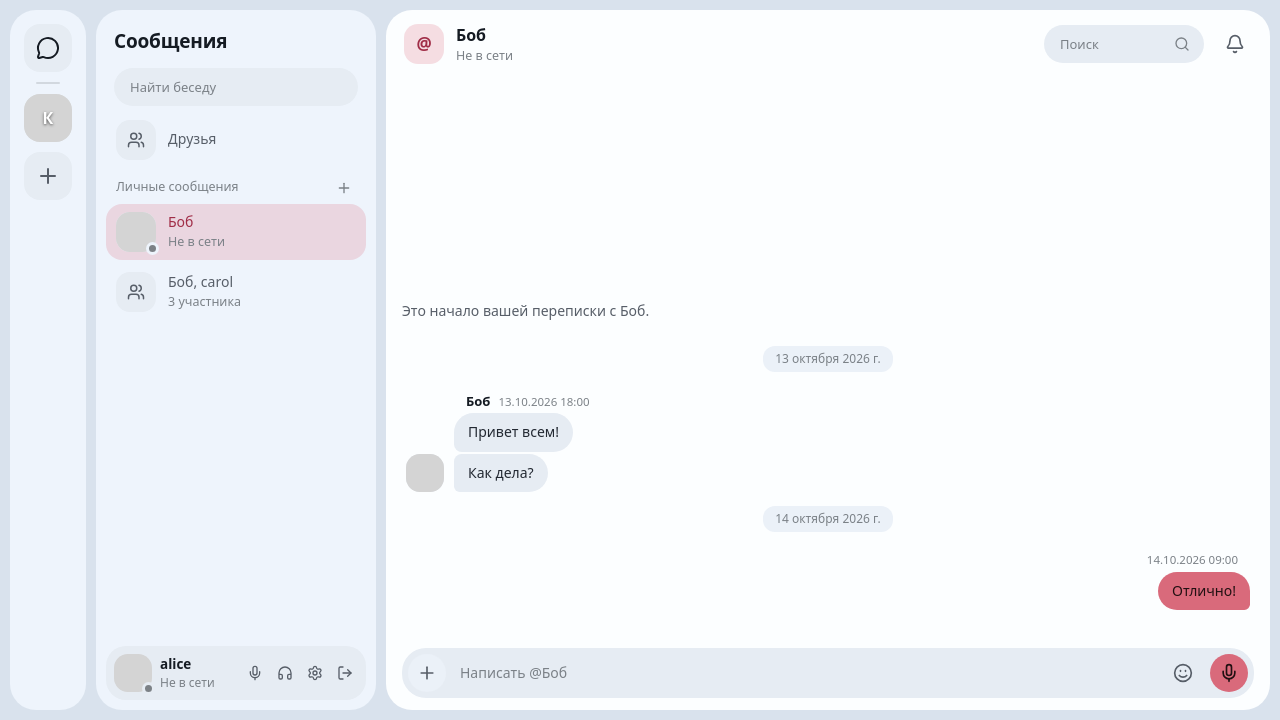
searching a DM or a group › says when from: names nobody in the conversation
Type "from:nobody" into the search field labelled "Поиск". click: (1124, 44)
box: top-left (1044, 25), bottom-right (1204, 63)
Then press Enter
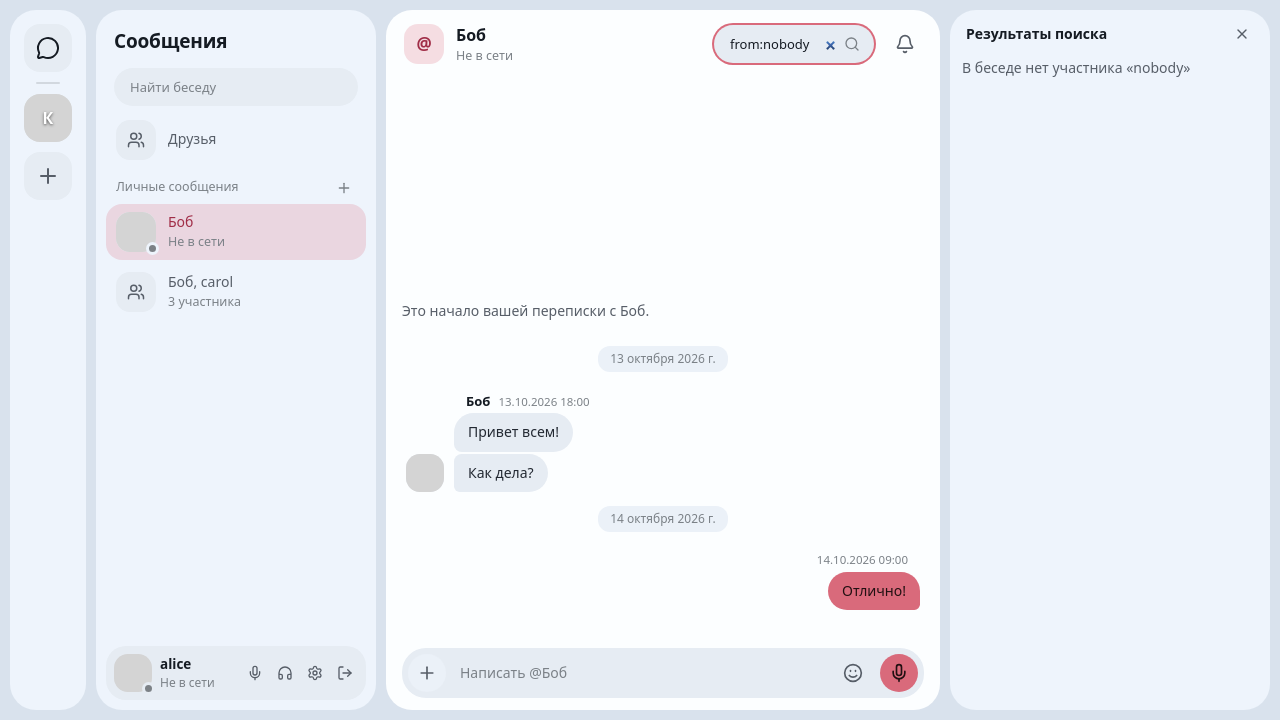
expect the text "В беседе нет участника «nobody»" is shown: met, box top-left (962, 58), bottom-right (1190, 77)
